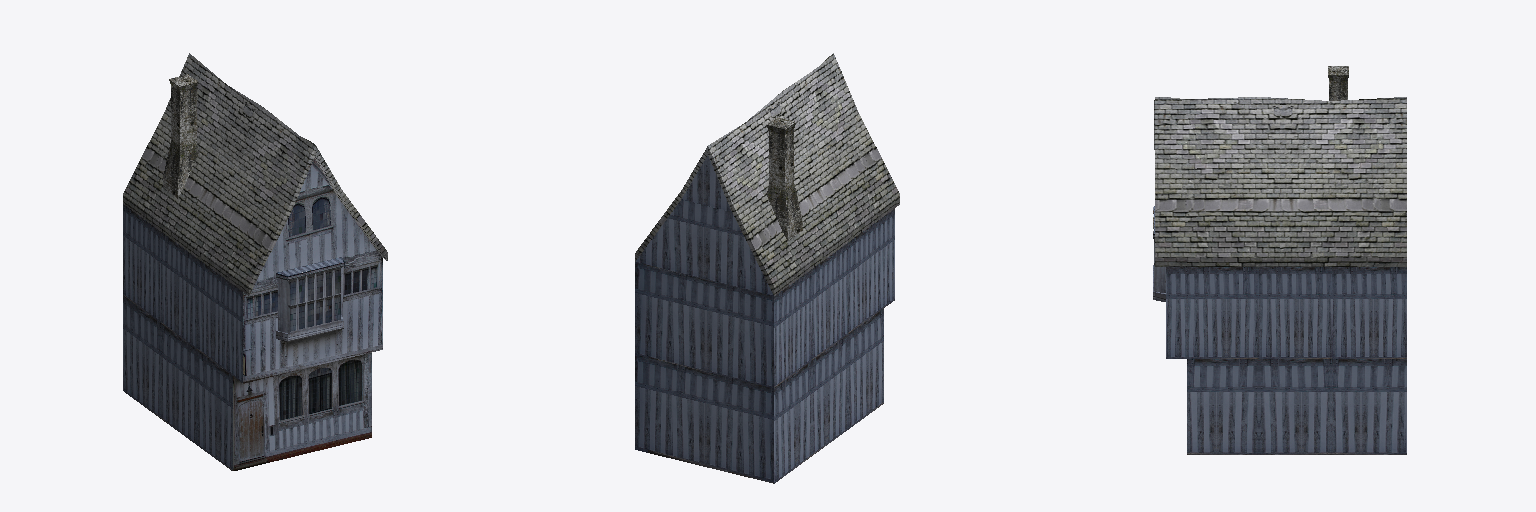
The picture shows the model from 3 angles: view 1: azimuth 30°, elevation 25°; view 2: azimuth 150°, elevation 25°; view 3: azimuth 270°, elevation 25°; orthographic projection.
Parts seen in each view (by area): view 1: Group3_Form7, Group3_Form8, Group3_Form9; view 2: Group3_Form7, Group3_Form9; view 3: Group3_Form7, Group3_Form9, Group3_Form8.
Part boxes in pixels (x1,y1,x2,y2): Group3_Form7: (123,53,387,470); Group3_Form8: (276,257,343,341); Group3_Form9: (163,74,198,198); Group3_Form7: (635,53,899,483); Group3_Form9: (767,117,802,240); Group3_Form7: (1154,97,1406,454); Group3_Form9: (1328,66,1348,100); Group3_Form8: (1153,206,1165,301).
Size of the model in its own units: 189 by 425 by 297.
Materials: 1 (1 with a texture image).